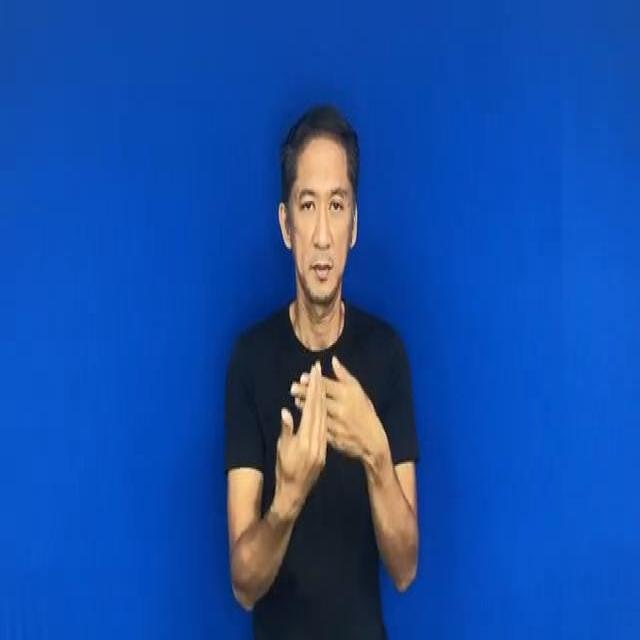bread: (264, 338, 385, 505)
